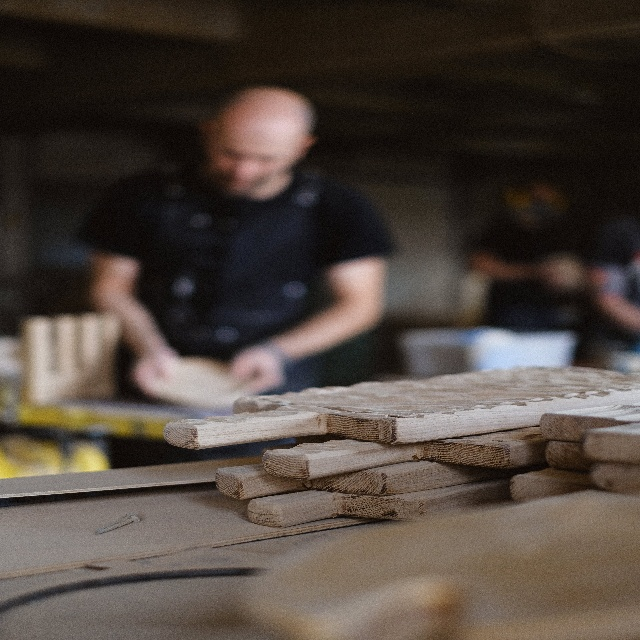Sin_guantes: (131, 340, 177, 404), (230, 346, 285, 397)
